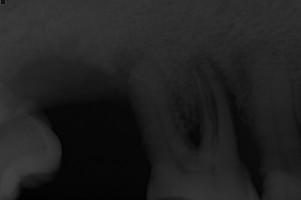Dental Caries: (167, 50, 249, 149)
Furcation Involvement: (112, 46, 149, 81)
